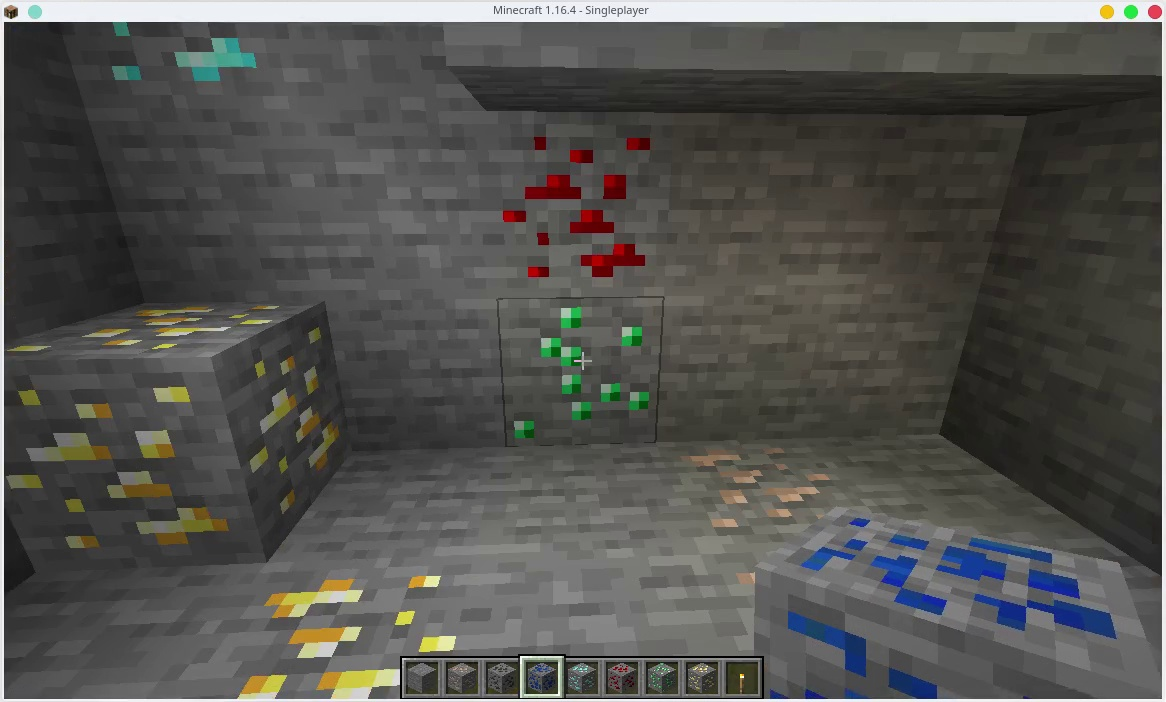gold: (8, 288, 348, 556), (193, 563, 461, 661), (685, 660, 718, 696)
